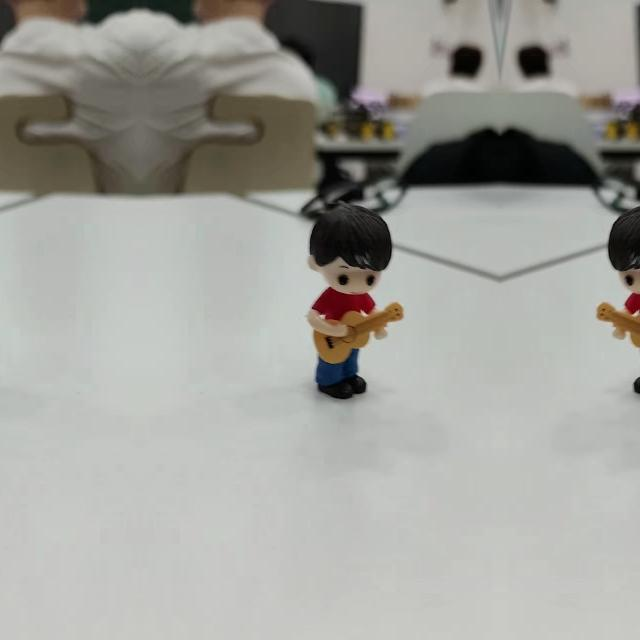man cloth: (315, 289, 377, 331), (623, 289, 640, 331)
man head: (304, 195, 394, 298), (606, 195, 640, 298)
trousers: (308, 344, 368, 401), (632, 343, 640, 400)
